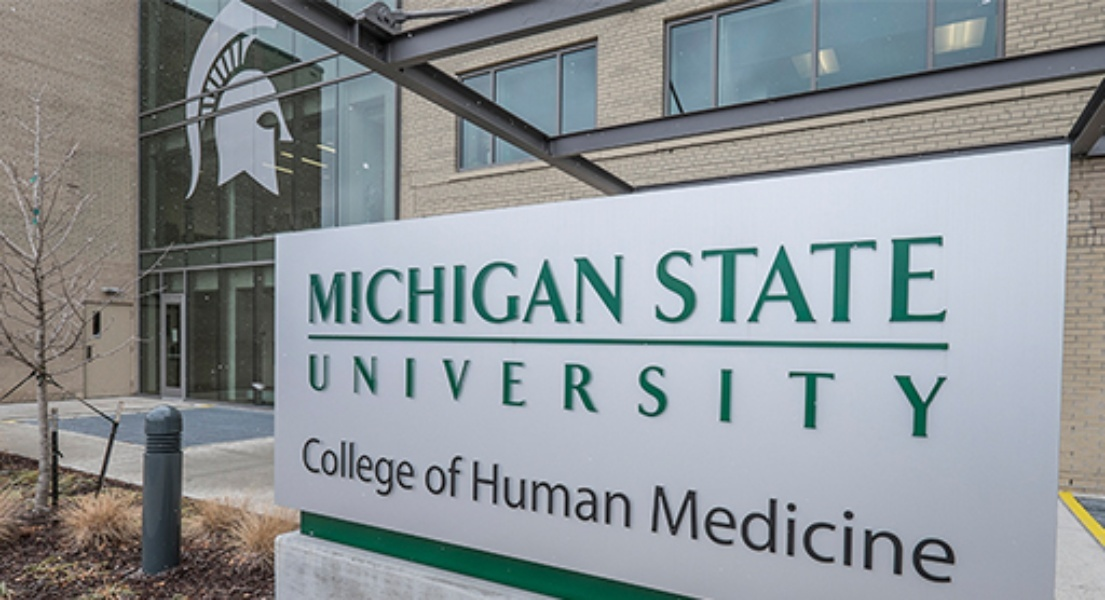text: (657, 482, 672, 585), (673, 482, 688, 585), (689, 482, 704, 585), (705, 482, 720, 585), (721, 482, 736, 585), (737, 482, 752, 585), (753, 482, 768, 585), (769, 482, 784, 585), (785, 482, 800, 585), (801, 482, 816, 585), (817, 482, 832, 585), (833, 482, 848, 585), (849, 482, 864, 585), (865, 482, 880, 585), (881, 482, 896, 585), (897, 482, 912, 585), (913, 482, 928, 585), (929, 482, 944, 585), (657, 234, 672, 324), (673, 234, 688, 324), (689, 234, 704, 324), (705, 234, 720, 324), (721, 234, 736, 324), (737, 234, 752, 324), (753, 234, 768, 324), (769, 234, 784, 324), (785, 234, 800, 324), (801, 234, 816, 324), (817, 234, 832, 324), (833, 234, 848, 324), (849, 234, 864, 324), (865, 234, 880, 324), (881, 234, 896, 324), (897, 234, 912, 324), (913, 234, 928, 324), (929, 234, 944, 324), (305, 352, 320, 439), (321, 352, 336, 439), (337, 352, 352, 439), (353, 352, 368, 439), (369, 352, 384, 439), (385, 352, 400, 439), (401, 352, 416, 439), (417, 352, 432, 439), (433, 352, 448, 439), (449, 352, 464, 439), (465, 352, 480, 439), (481, 352, 496, 439), (497, 352, 512, 439), (513, 352, 528, 439), (529, 352, 544, 439), (545, 352, 560, 439), (561, 352, 576, 439), (577, 352, 592, 439), (593, 352, 608, 439), (609, 352, 624, 439), (625, 352, 640, 439), (641, 352, 656, 439), (657, 352, 672, 439), (673, 352, 688, 439), (689, 352, 704, 439), (705, 352, 720, 439), (721, 352, 736, 439), (737, 352, 752, 439), (753, 352, 768, 439), (769, 352, 784, 439), (785, 352, 800, 439), (801, 352, 816, 439), (817, 352, 832, 439), (833, 352, 848, 439), (849, 352, 864, 439), (865, 352, 880, 439), (881, 352, 896, 439), (897, 352, 912, 439), (913, 352, 928, 439), (929, 352, 944, 439), (305, 430, 320, 506), (321, 430, 336, 506), (337, 430, 352, 506), (353, 430, 368, 506), (369, 430, 384, 506), (385, 430, 400, 506), (401, 430, 416, 506), (305, 251, 320, 324), (321, 251, 336, 324), (337, 251, 352, 324), (353, 251, 368, 324), (369, 251, 384, 324), (385, 251, 400, 324), (401, 251, 416, 324), (417, 251, 432, 324), (433, 251, 448, 324), (449, 251, 464, 324), (465, 251, 480, 324), (481, 251, 496, 324), (497, 251, 512, 324), (513, 251, 528, 324), (529, 251, 544, 324), (545, 251, 560, 324), (561, 251, 576, 324), (577, 251, 592, 324), (593, 251, 608, 324), (609, 251, 624, 324), (481, 458, 496, 531), (497, 458, 512, 531), (513, 458, 528, 531), (529, 458, 544, 531), (545, 458, 560, 531), (561, 458, 576, 531), (577, 458, 592, 531), (593, 458, 608, 531), (609, 458, 624, 531), (945, 482, 954, 585), (433, 454, 448, 503), (449, 454, 464, 503), (625, 458, 635, 531), (471, 458, 480, 531), (421, 454, 432, 503), (652, 482, 656, 585), (417, 430, 421, 506), (945, 234, 948, 324), (945, 352, 948, 439), (654, 234, 656, 324), (465, 454, 467, 503), (303, 430, 304, 506)
